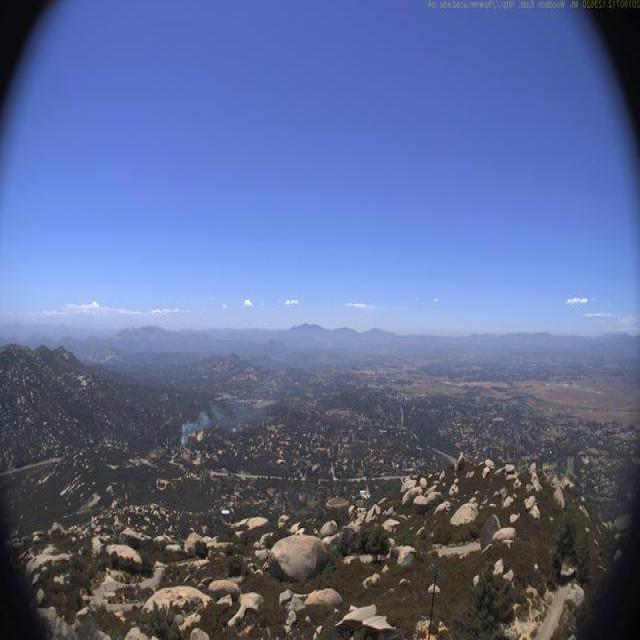Smoke: (178, 395, 265, 449)
